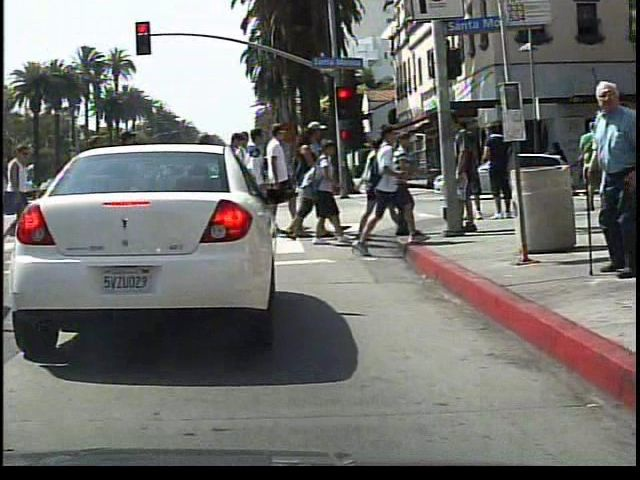person: (557, 74, 639, 287)
